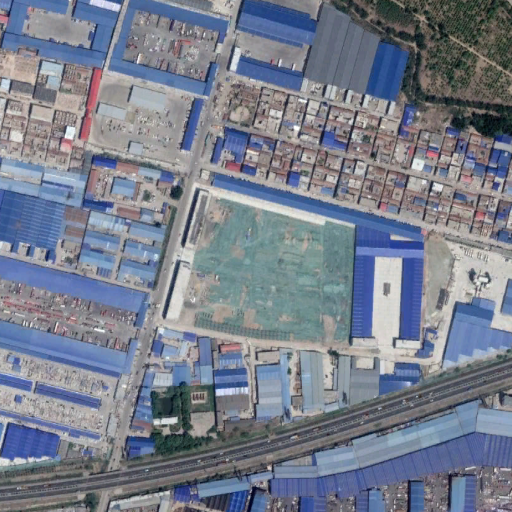cw: (181, 191, 353, 353)
